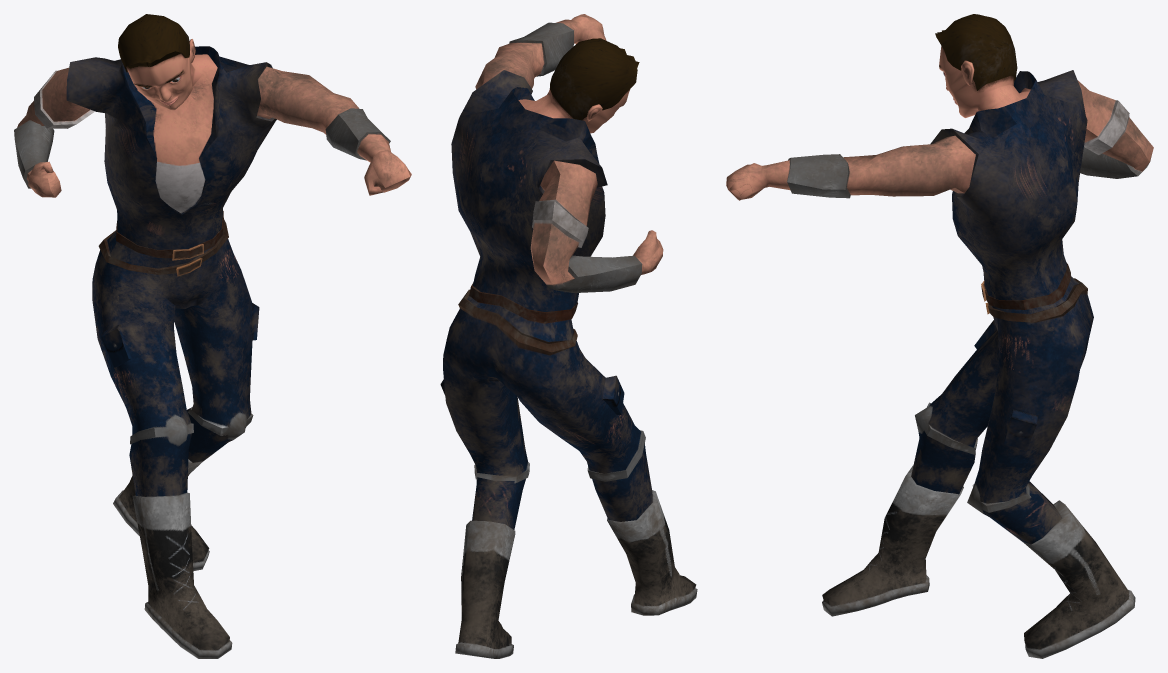
File: Anim_ataque_d2_jugador.0032.obj
3 views of the same model, side by side, from view 1: azimuth 30°, elevation 25°; view 2: azimuth 150°, elevation 25°; view 3: azimuth 270°, elevation 25° (orthographic). The views are drawn at different scales.
Parts seen in each view (by area): view 1: polySurface1; view 2: polySurface1; view 3: polySurface1.
Boxes of the visible parts, bbox=[...] form: polySurface1: bbox=[14, 14, 411, 658]; polySurface1: bbox=[440, 14, 697, 658]; polySurface1: bbox=[726, 14, 1153, 658].
Size of the model in its own units: 3.9 by 9.04 by 5.82.
